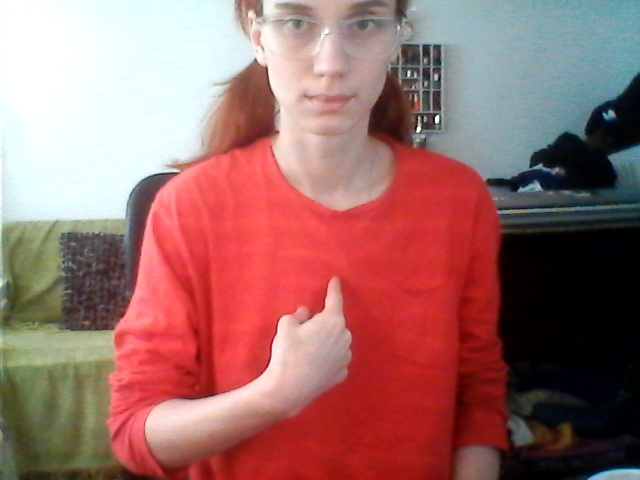ja: (251, 259, 371, 428)
